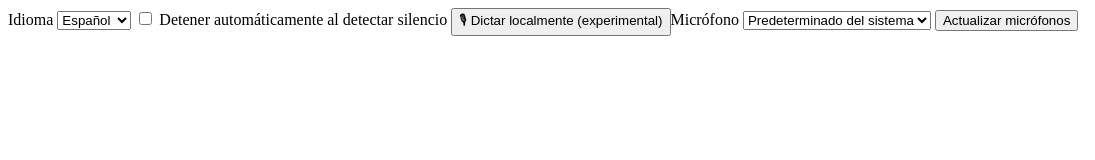
Test: local dictation interaction › requests consent, stops tracks and returns transcription for review
Click the button "🎙 Dictar localmente (experimental)". click: coordinates (561, 22)
box: 451,8 -> 670,36
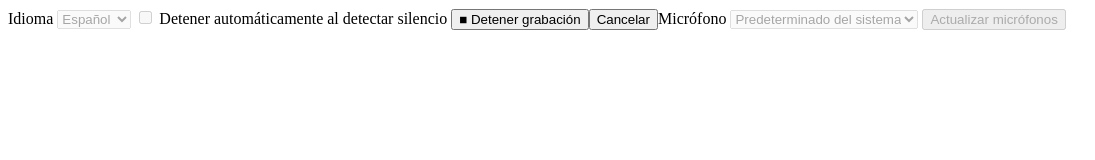
Expected: the text "Detener grabación" is shown
Click the button "■ Detener grabación". click: coordinates (520, 20)
box: 451,9 -> 589,30
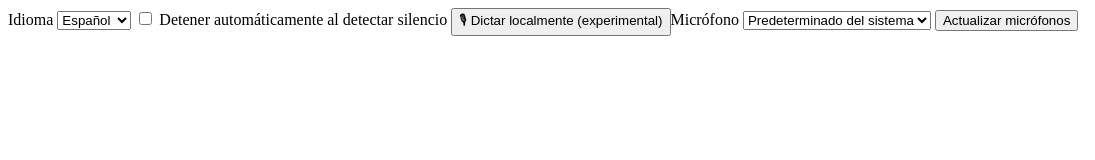
Expected: the text "Dictar localmente" is shown, 451,8 -> 670,36
